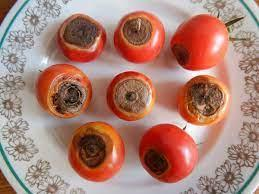tomato early blight: (171, 14, 231, 127), (138, 124, 200, 185), (67, 123, 127, 185), (37, 65, 93, 120), (114, 11, 167, 64), (177, 76, 231, 127), (57, 14, 108, 64), (107, 72, 157, 122)
